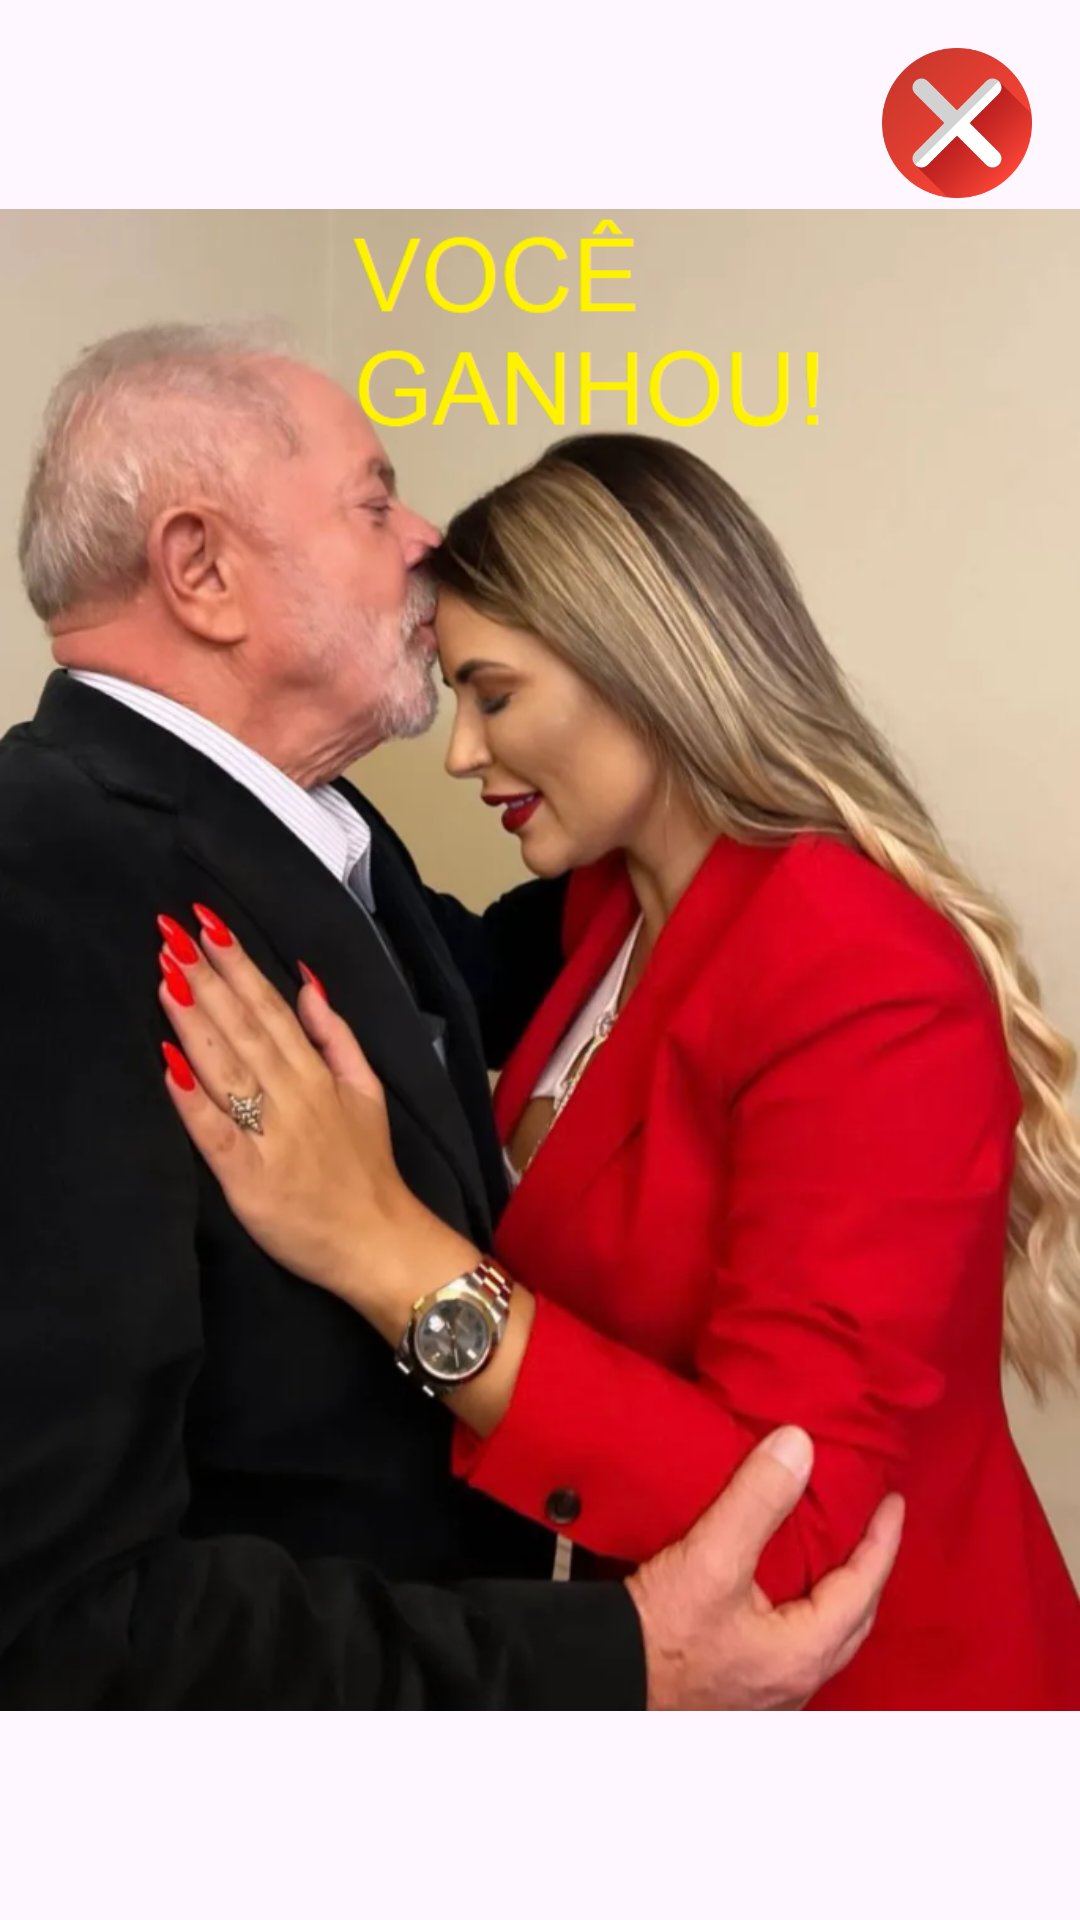

Icon click points for this 1080w x 1920h phone screenshot, format [x,y]:
close: [957,123]
